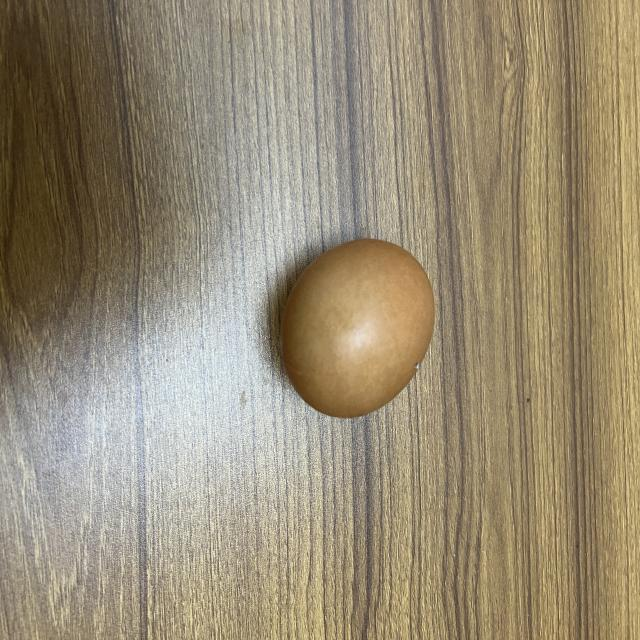Egg: (272, 226, 449, 424)
